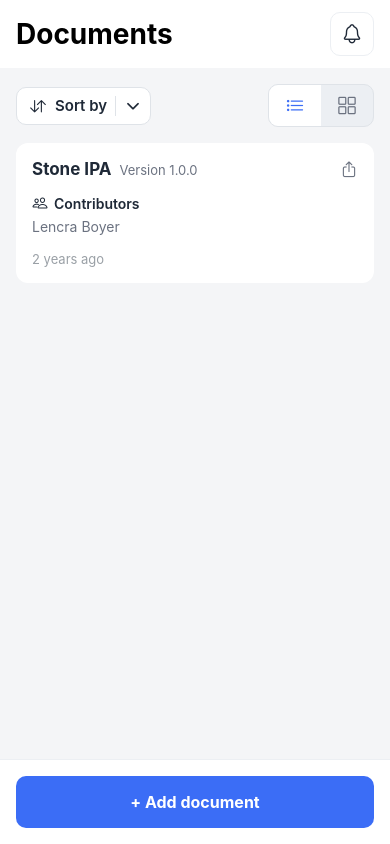
Test case: DocumentListScreen sorting and layout › drops the details when the documents go side by side
This screenshot has width=390, height=844.
Expected: the text "Stone IPA" is shown, [32,159,111,179]
What coordinates should you click on to do the following:
click the button named "Show as grid"
I would click on:
 (347, 106)
Its box is [321,85,373,126].
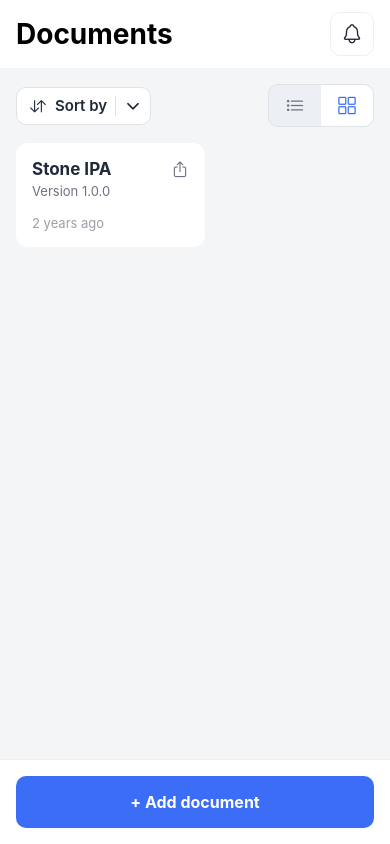
Expected: the text "Stone IPA" is shown, [32,159,111,179]
Expected: the text "Lencra Boyer" is gone
